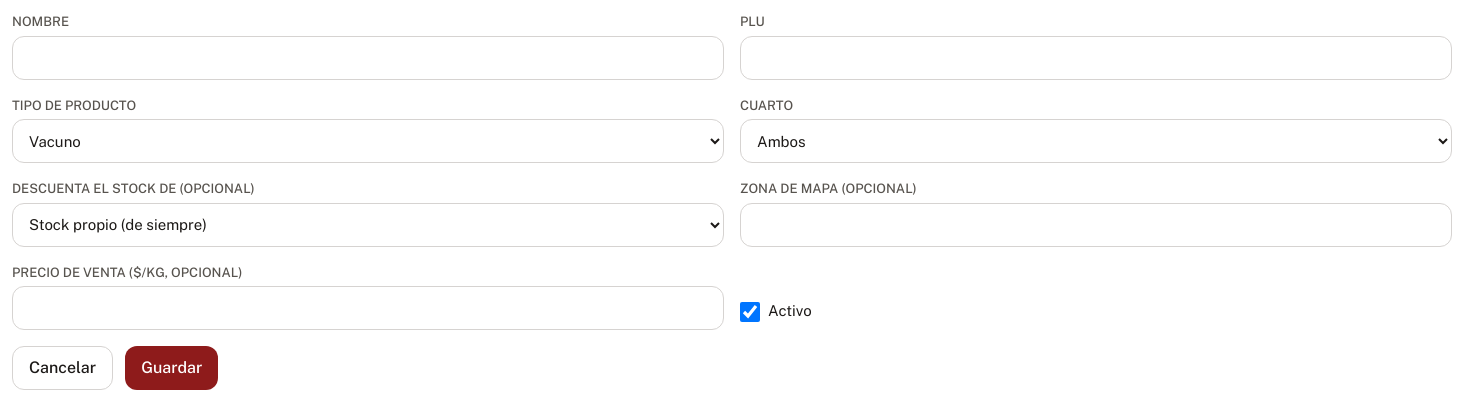
Test: FormularioCorte › tipo de producto "Vacuno" muestra el selector de Cuarto; otro tipo lo oculta
Expected: the dropdown labelled "Cuarto" is shown, [740,119,1452,163]
Select "Cerdo" in the dropdown labelled "Tipo de producto" at {"x": 368, "y": 141}, box [12,119,724,163]
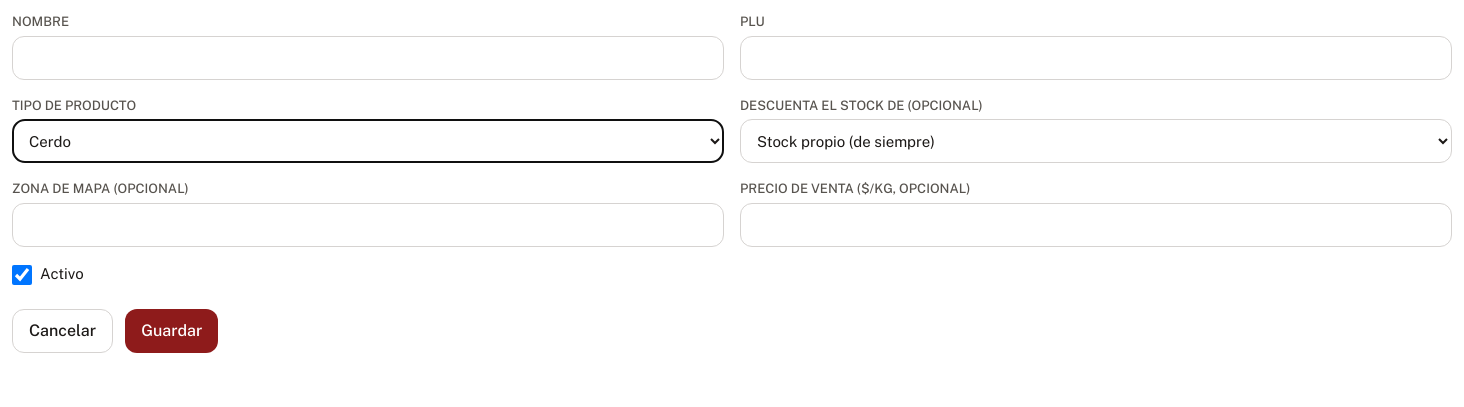
Now the label labelled "Cuarto" is gone
